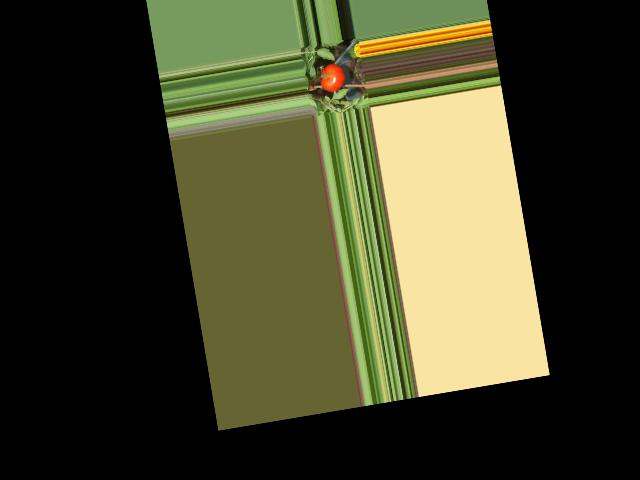tomato: (318, 62, 347, 94)
